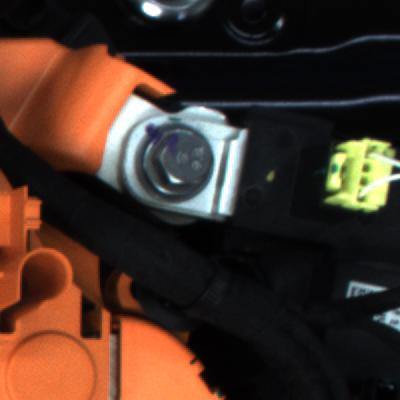nut_b: (126, 117, 224, 207)
